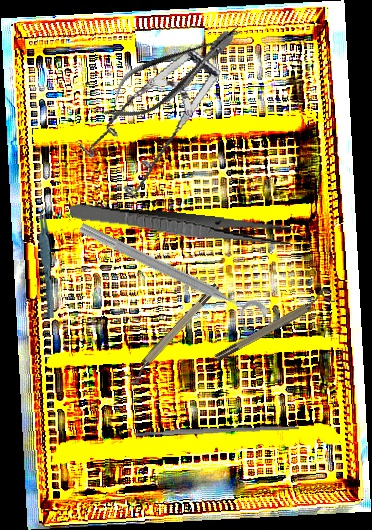Dressing Forceps: (68, 201, 294, 248)
Fixation Ring: (70, 216, 271, 339), (121, 281, 226, 388), (210, 286, 336, 364)
Micro Scissor: (90, 10, 255, 135)
Scalpel Handle: (134, 424, 300, 437)
Speculum: (60, 28, 270, 211)
Tissue Forceps: (34, 204, 61, 319)
